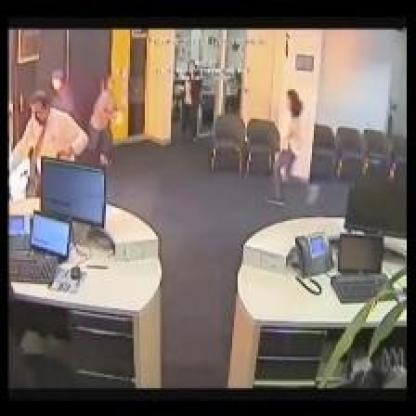fire: (6, 158, 32, 200)
